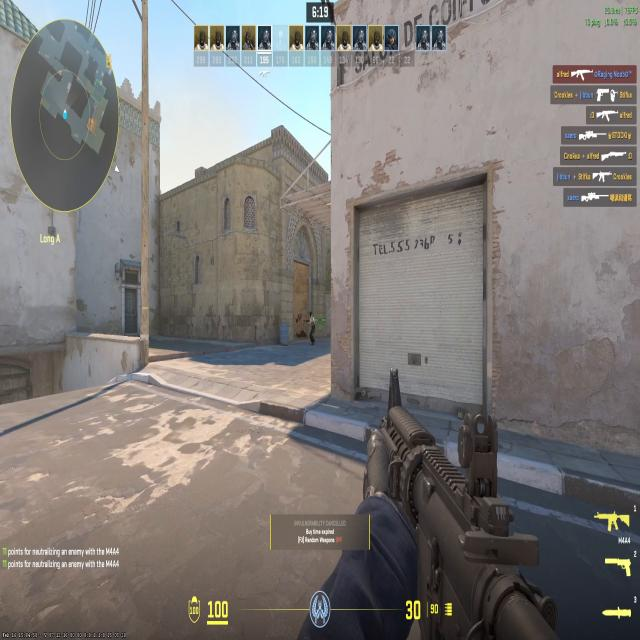player: (301, 306, 320, 344)
